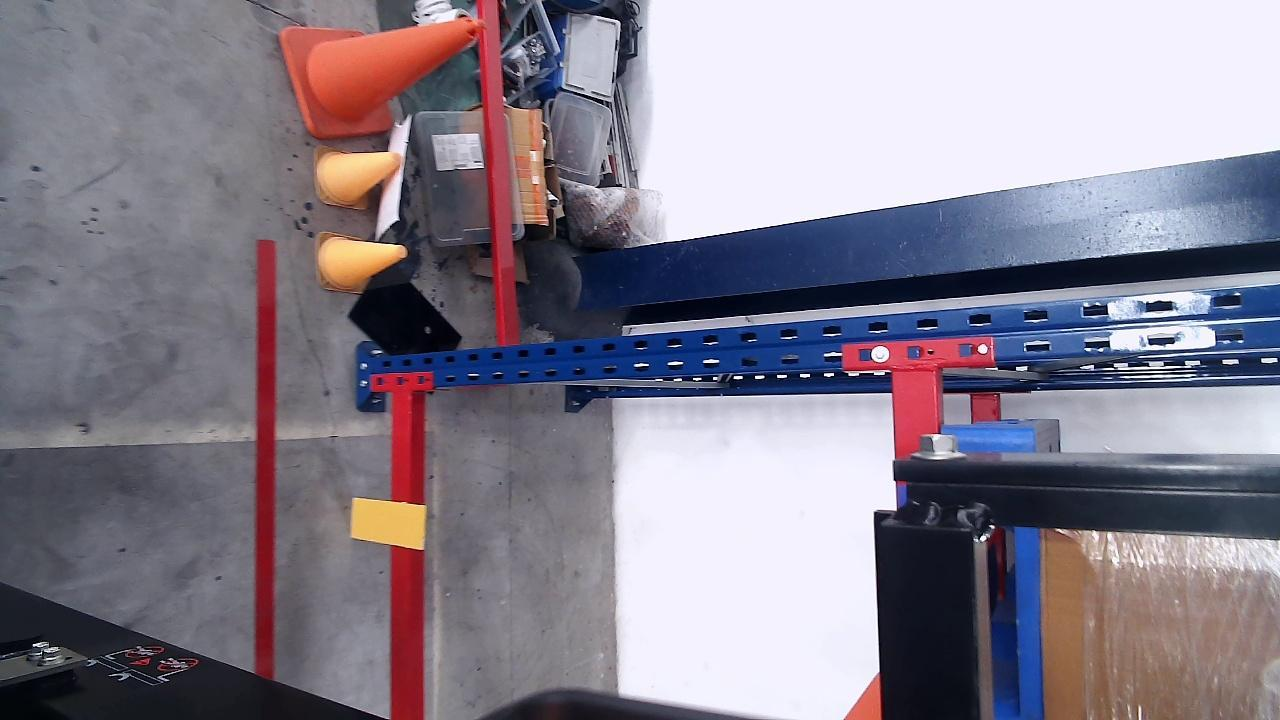h_rack: (390, 391, 412, 720)
orange_strip: (349, 498, 427, 550)
red_line: (255, 239, 277, 683)
